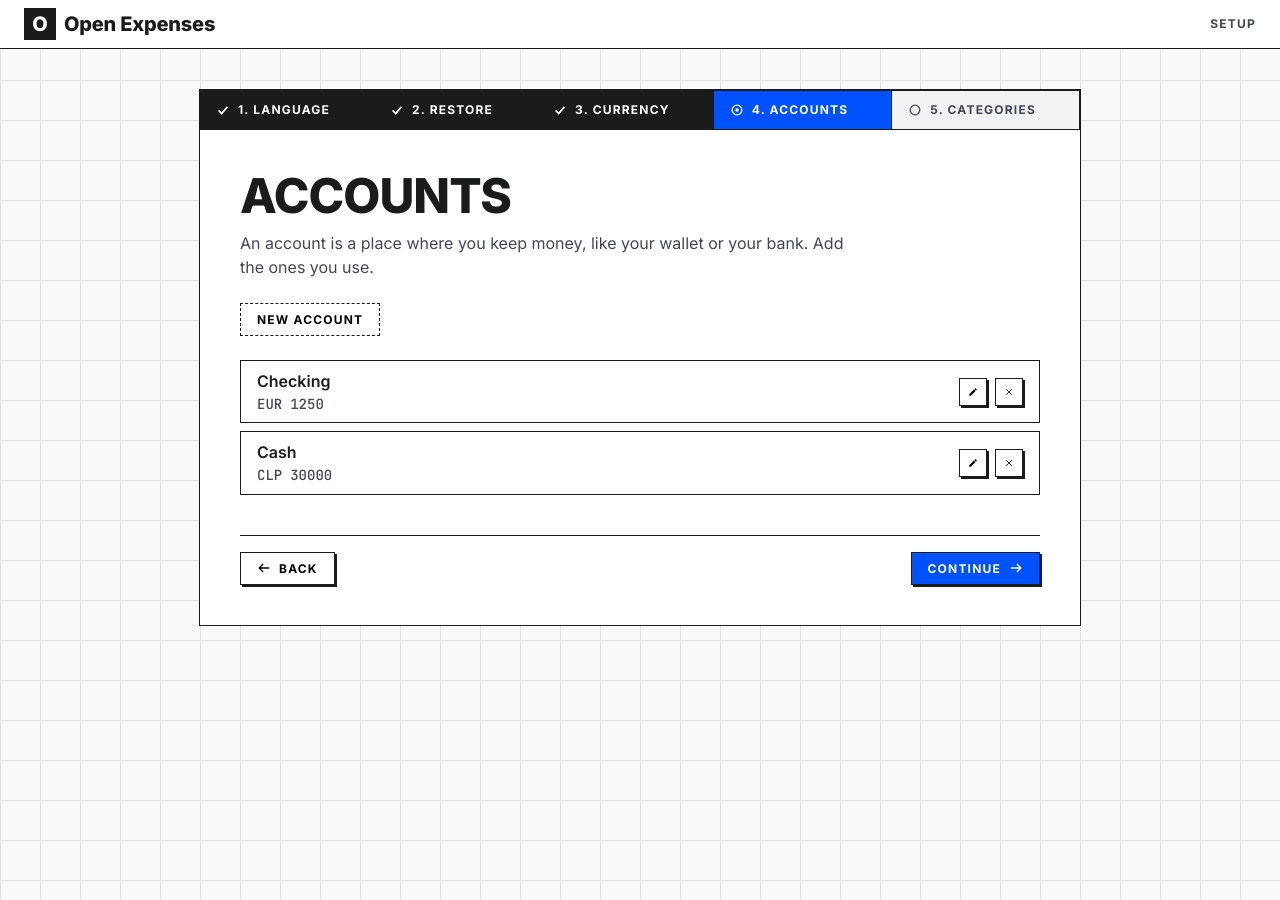
OnboardingComponent › removes an account only after the inline tick/X confirmation
This screenshot has width=1280, height=900.
Click the button named "Remove" in the row of "Checking".
click(1009, 392)  # box x1=995 y1=378 x2=1023 y2=406
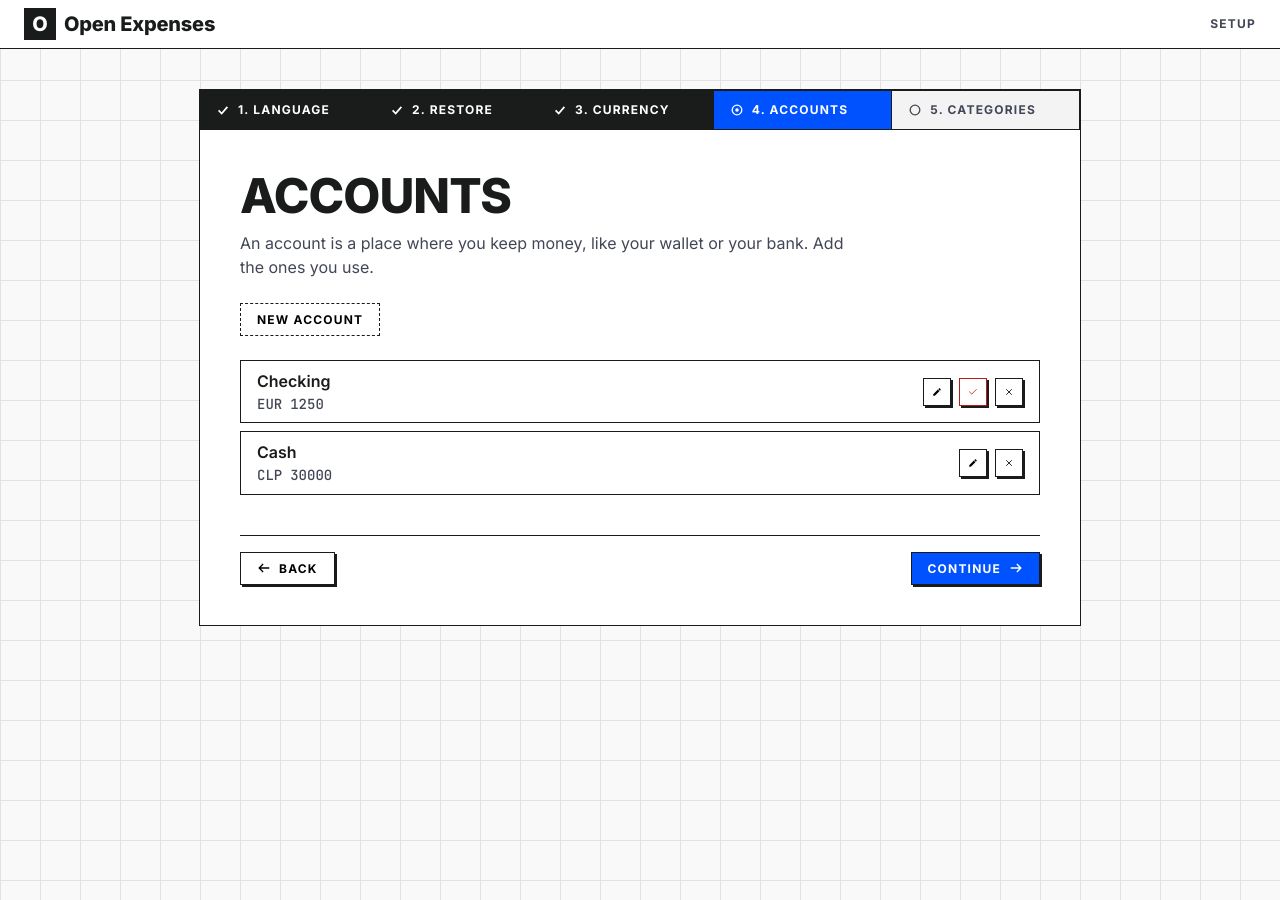
Check: the button named "Confirm removal" is shown, box x1=959 y1=378 x2=987 y2=406
Click the button named "Cancel removal".
click(1009, 392)  # box x1=995 y1=378 x2=1023 y2=406
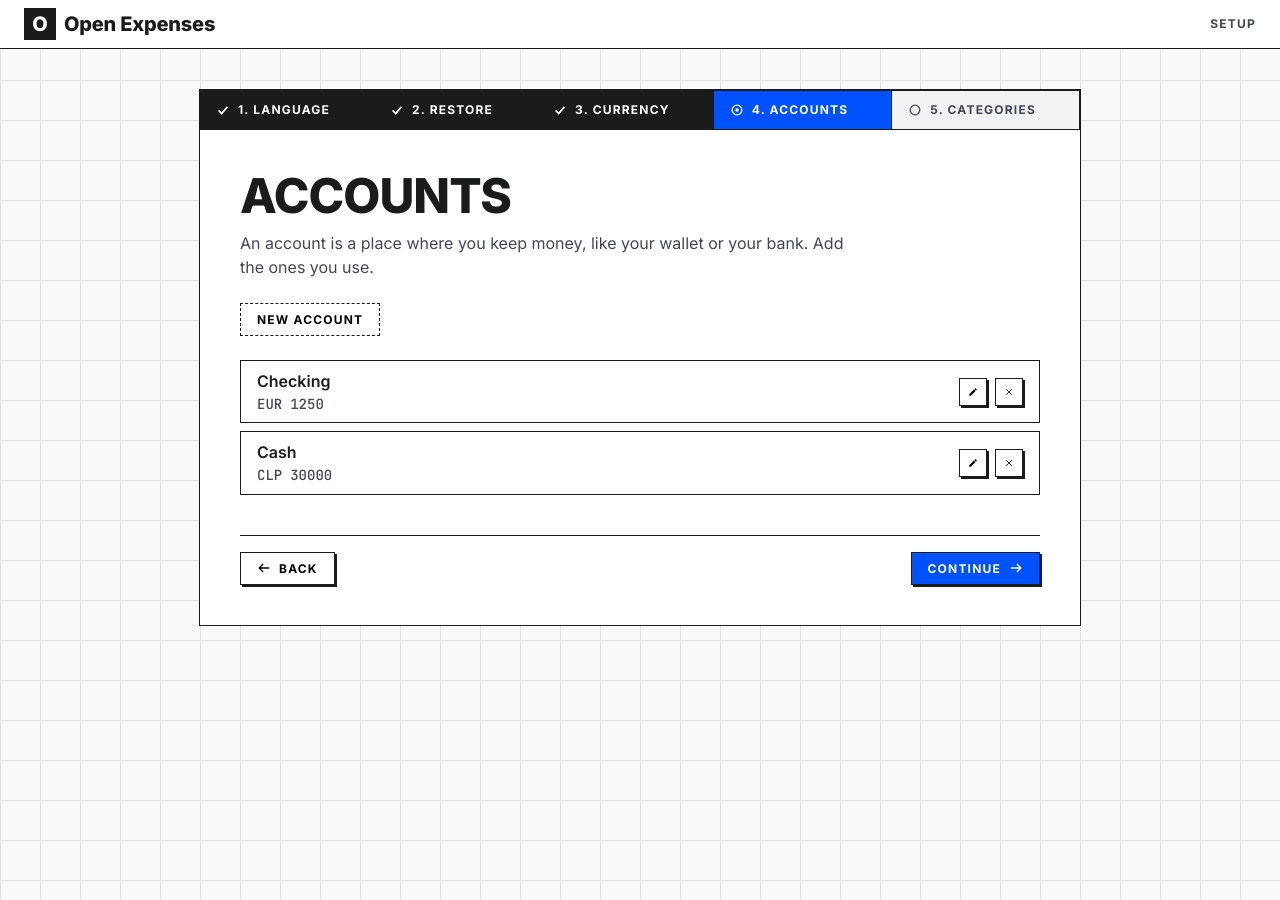
Click the button named "Remove" in the row of "Checking".
click(1009, 392)  # box x1=995 y1=378 x2=1023 y2=406
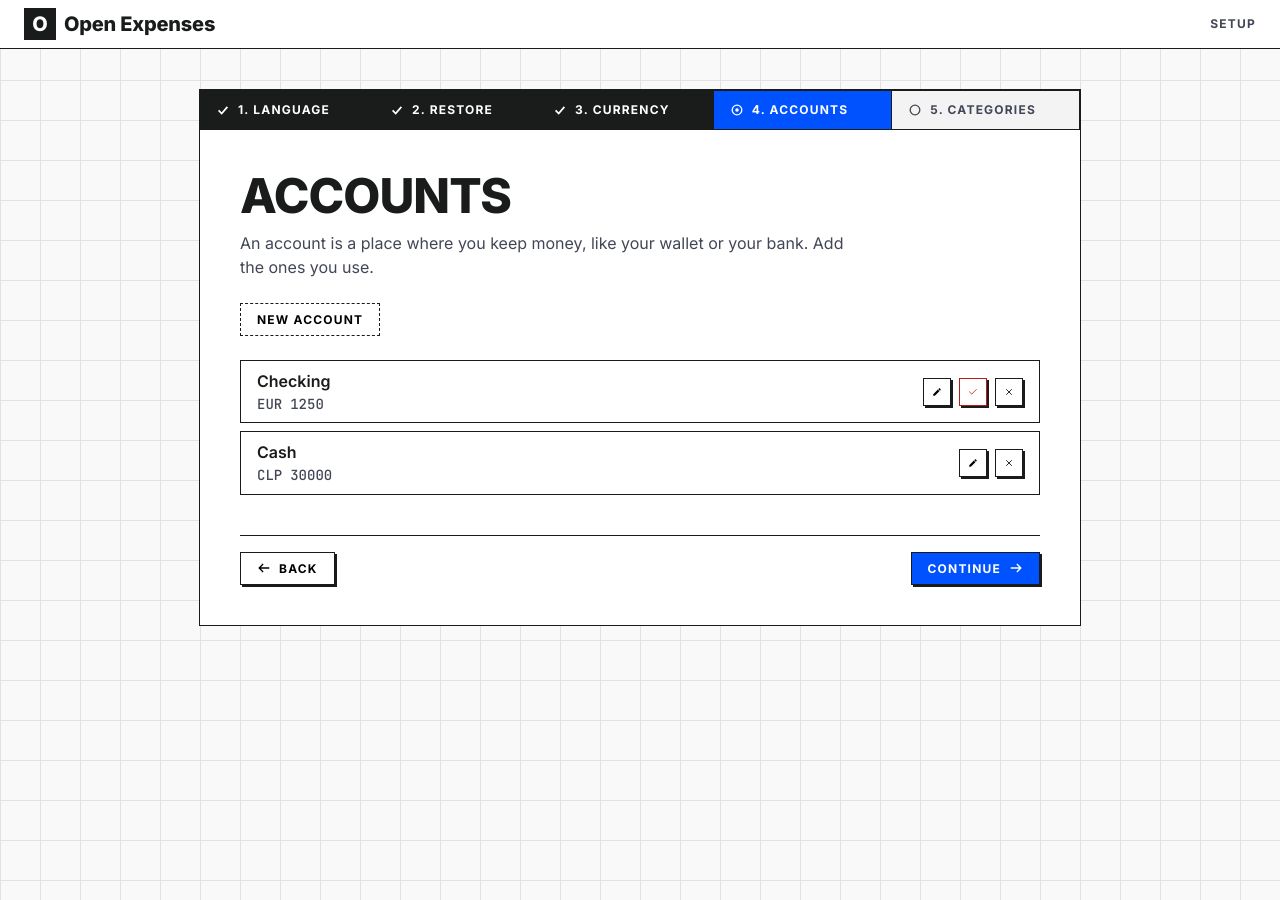
Click the button named "Confirm removal".
click(973, 392)  # box x1=959 y1=378 x2=987 y2=406
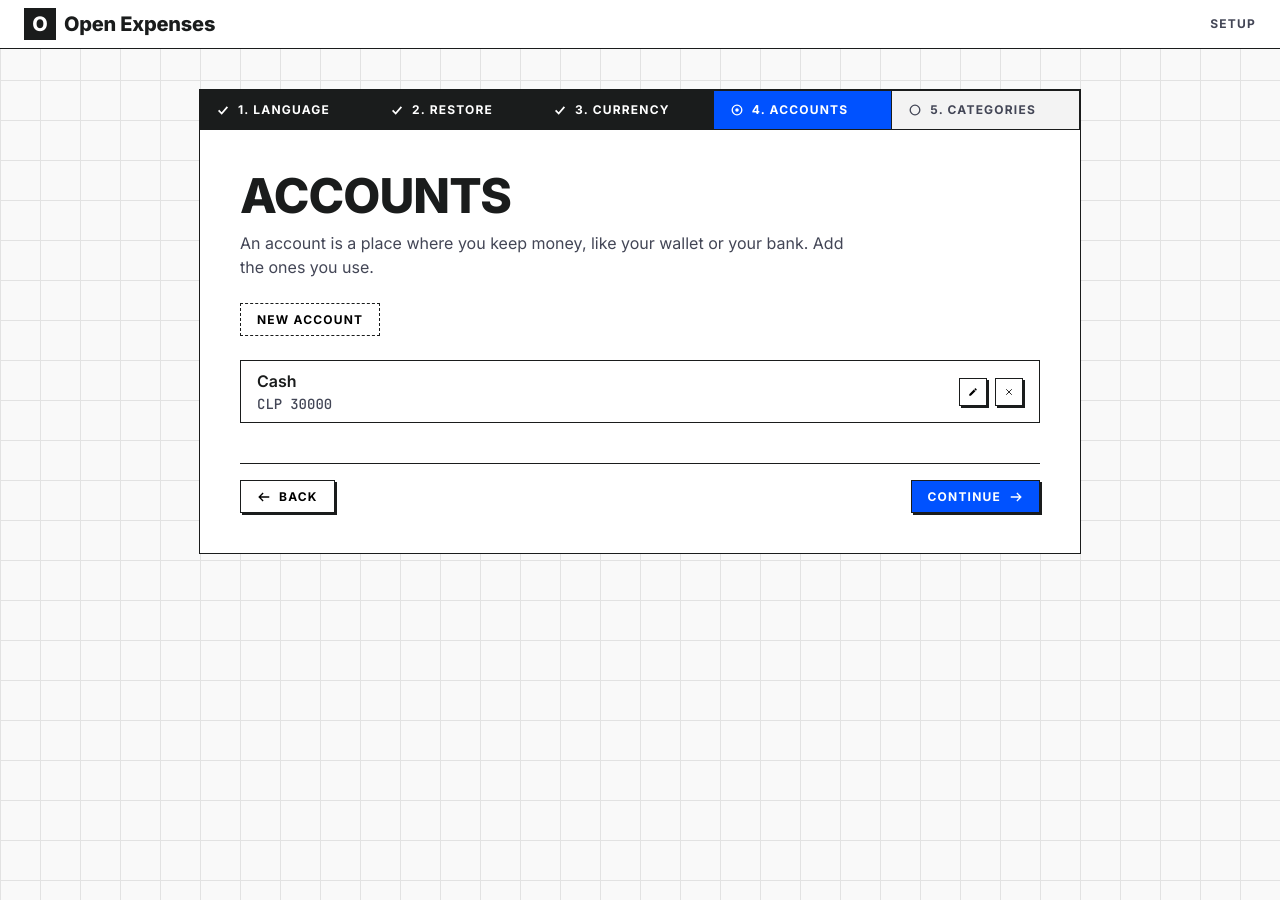
Check: the text "Cash" is shown, box x1=257 y1=369 x2=297 y2=393
